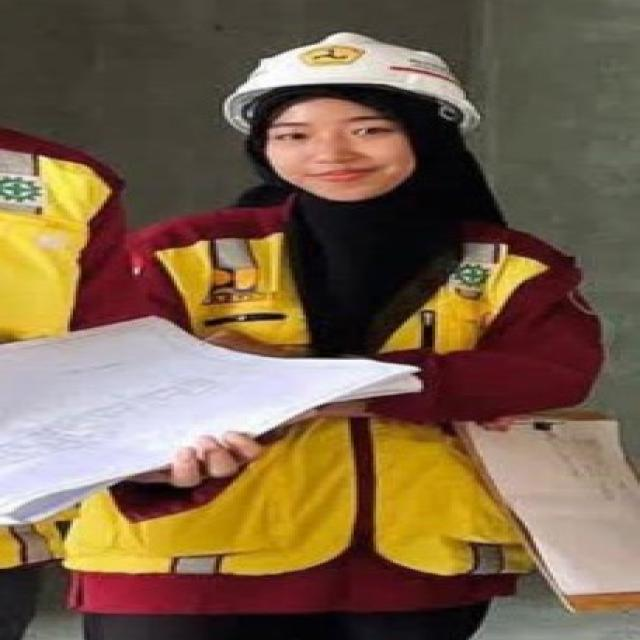safetyhelmet: (211, 27, 498, 212)
